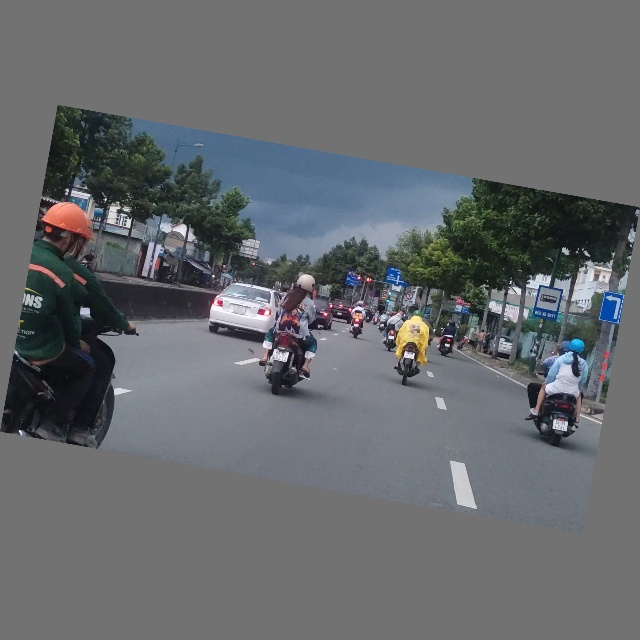I.434a: (533, 285, 563, 323)
P.137: (405, 292, 414, 301)
R.415a: (345, 275, 360, 288)
